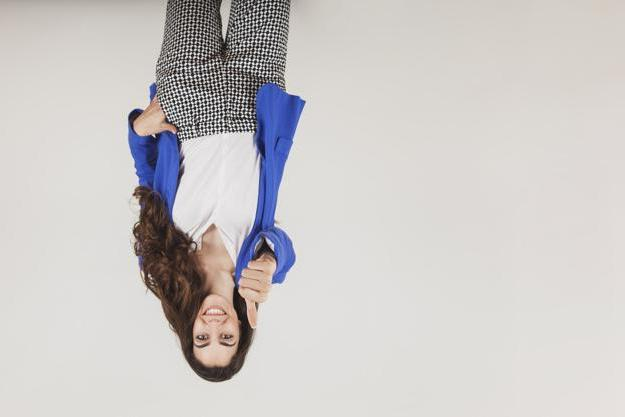thumbsdown: (238, 260, 274, 329)
